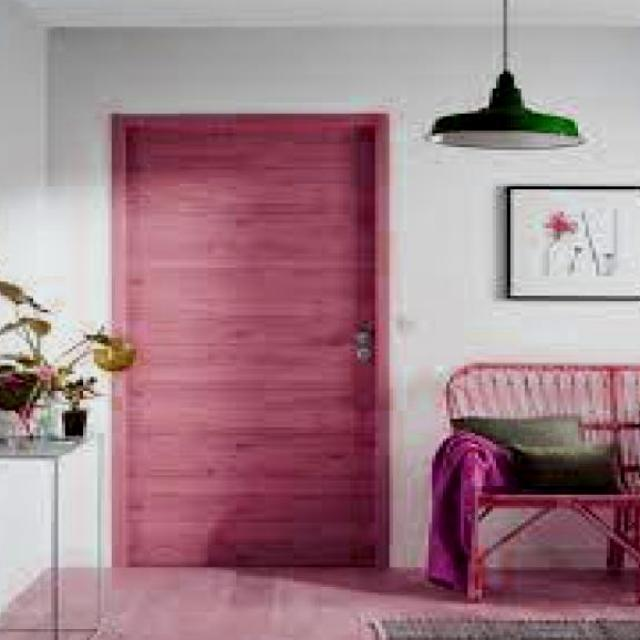door: (109, 110, 390, 569)
